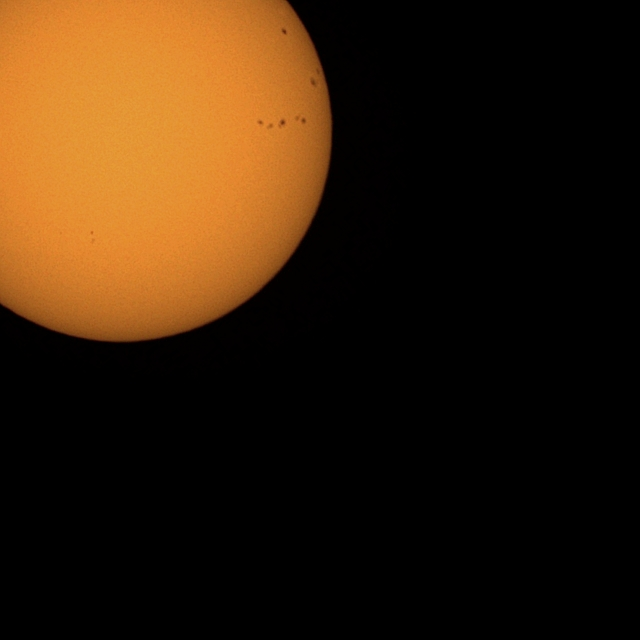sunspot: (256, 117, 288, 131), (310, 67, 322, 89), (295, 113, 307, 125), (89, 230, 96, 245), (281, 27, 288, 36)
